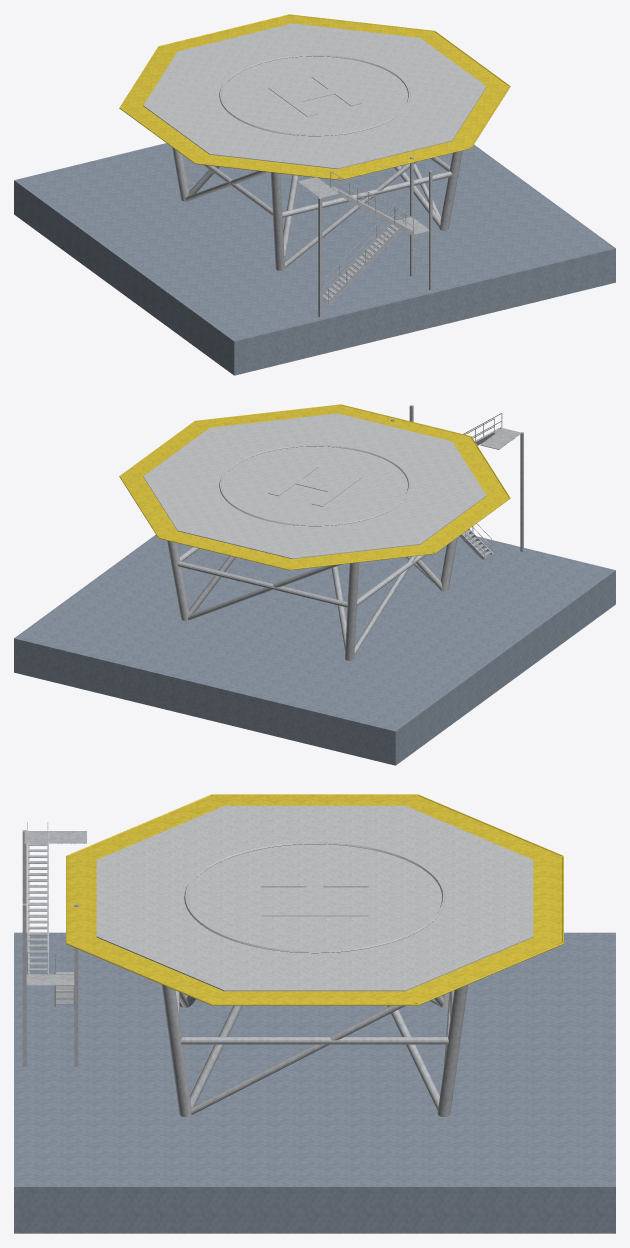
The model's file is helideck-frames.glb.
3 views of the same model, one above another, from view 1: azimuth 30°, elevation 25°; view 2: azimuth 150°, elevation 25°; view 3: azimuth 270°, elevation 25° (orthographic). The views are drawn at different scales.
Visible parts, largest first — view 1: ModuleRoof(context), DeckPlate&Markings, SafetyNetFrames, SupportTruss, AccessStairs; view 2: ModuleRoof(context), DeckPlate&Markings, SafetyNetFrames, SupportTruss, AccessStairs; view 3: ModuleRoof(context), DeckPlate&Markings, SafetyNetFrames, SupportTruss, AccessStairs.
Part boxes in pixels (x1,y1,x2,y2): ModuleRoof(context): [14, 143, 615, 375]; DeckPlate&Markings: [143, 23, 486, 168]; SafetyNetFrames: [119, 14, 510, 180]; SupportTruss: [172, 147, 462, 270]; AccessStairs: [298, 156, 432, 317]; ModuleRoof(context): [14, 534, 615, 765]; DeckPlate&Markings: [143, 413, 486, 558]; SafetyNetFrames: [119, 404, 510, 570]; SupportTruss: [167, 537, 457, 660]; AccessStairs: [391, 405, 523, 560]; ModuleRoof(context): [14, 932, 615, 1233]; DeckPlate&Markings: [96, 805, 533, 991]; SafetyNetFrames: [66, 794, 563, 1005]; SupportTruss: [162, 985, 467, 1116]; AccessStairs: [22, 822, 86, 1066].
Bounding box in the file's own units: 28 × 11.82 × 28.
Materials: 5 (5 with a texture image).
